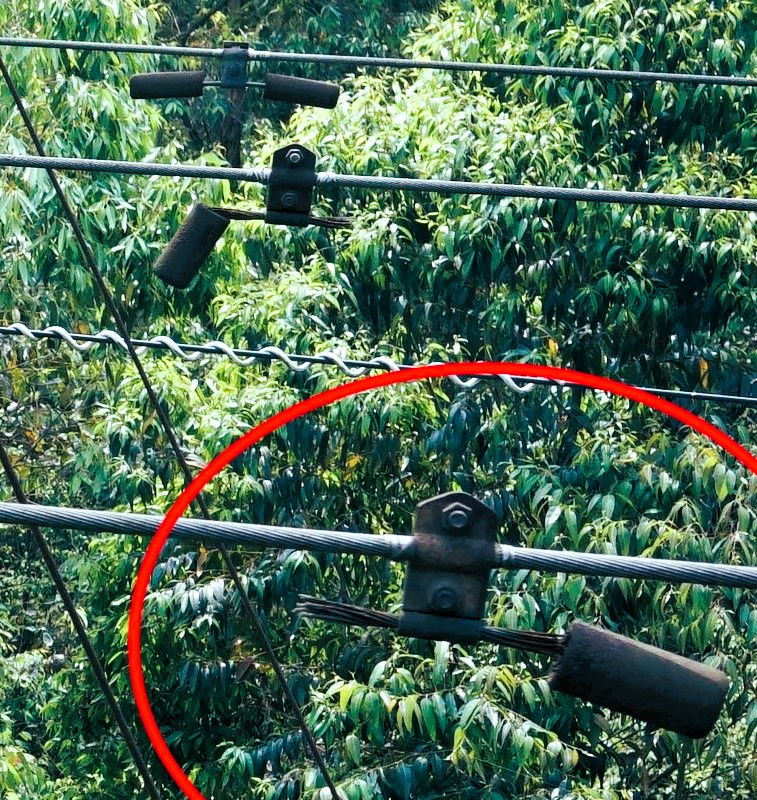Damage of shockproof hammer: (283, 475, 743, 747), (146, 131, 362, 298)
